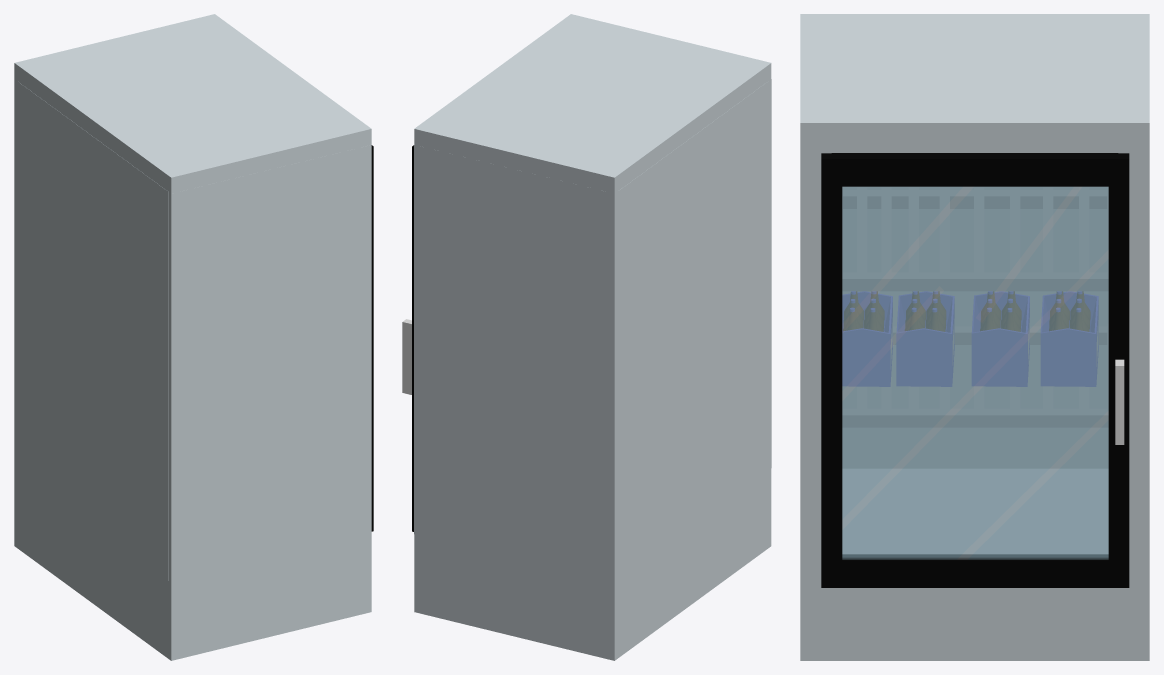
The model's file is Fridge.fbx.
The picture shows the model from 3 angles, left to right: view 1: azimuth 30°, elevation 25°; view 2: azimuth 150°, elevation 25°; view 3: azimuth 270°, elevation 25°; orthographic projection. The views are drawn at different scales.
Visible parts, largest first — view 1: side1, side3, top_fridge1, base_fridge, side2, pCube15; view 2: side2, side3, top_fridge1, base_fridge, side1, pCube14, poignée; view 3: vitre, base_fridge, top_fridge1, side3, carton_beer (×4), pCube11 (×2), side1, pCube17, pCube16, pCube15, side2, pCube14 (+10 smaller).
Boxes of the visible parts, x1=… form: side1: x1=168, y1=145, x2=371, y2=583; side3: x1=17, y1=82, x2=168, y2=580; top_fridge1: x1=14, y1=14, x2=371, y2=193; base_fridge: x1=14, y1=462, x2=371, y2=660; side2: x1=14, y1=79, x2=17, y2=469; pCube15: x1=371, y1=145, x2=373, y2=531; side2: x1=414, y1=145, x2=618, y2=583; side3: x1=618, y1=81, x2=768, y2=580; top_fridge1: x1=414, y1=14, x2=771, y2=218; base_fridge: x1=414, y1=462, x2=771, y2=660; side1: x1=768, y1=79, x2=771, y2=467; pCube14: x1=412, y1=145, x2=413, y2=531; poignée: x1=402, y1=319, x2=411, y2=394; vitre: x1=842, y1=186, x2=1108, y2=559; base_fridge: x1=800, y1=469, x2=1149, y2=660; top_fridge1: x1=800, y1=14, x2=1149, y2=171; side3: x1=842, y1=187, x2=1108, y2=468; carton_beer (×4): x1=842, y1=291, x2=1098, y2=386; pCube11 (×2): x1=842, y1=272, x2=1108, y2=427; side1: x1=800, y1=140, x2=832, y2=574; pCube17: x1=831, y1=153, x2=1118, y2=186; pCube16: x1=831, y1=554, x2=1118, y2=587; pCube15: x1=821, y1=153, x2=842, y2=587; side2: x1=1117, y1=140, x2=1149, y2=574; pCube14: x1=1108, y1=153, x2=1129, y2=587.
Bounding box in the file's own units: 0.8254 × 1.7 × 1.
